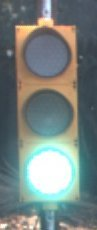Green: (9, 23, 86, 209)
